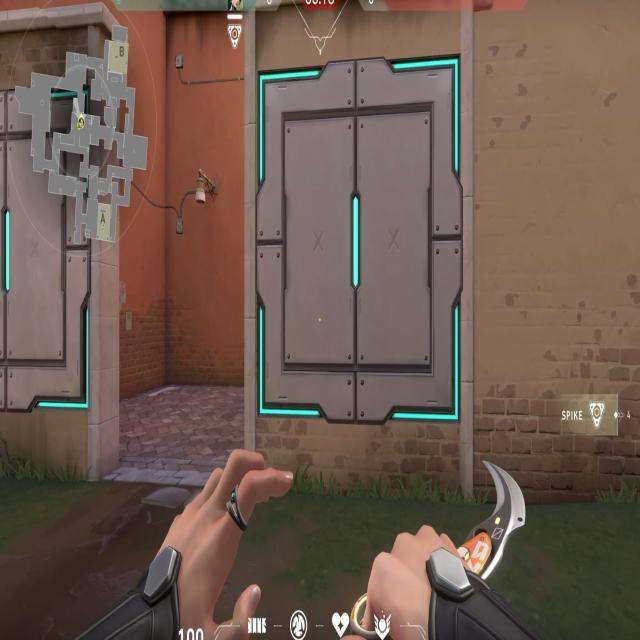Mid_Wall: (245, 0, 476, 493), (0, 3, 119, 471)
